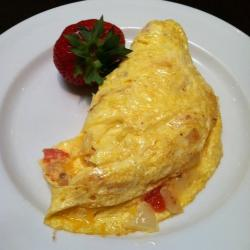omelette: (59, 24, 216, 238)
